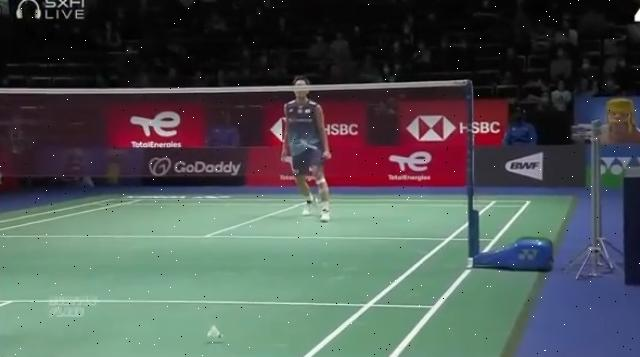Shuttlecock: (200, 320, 228, 344)
